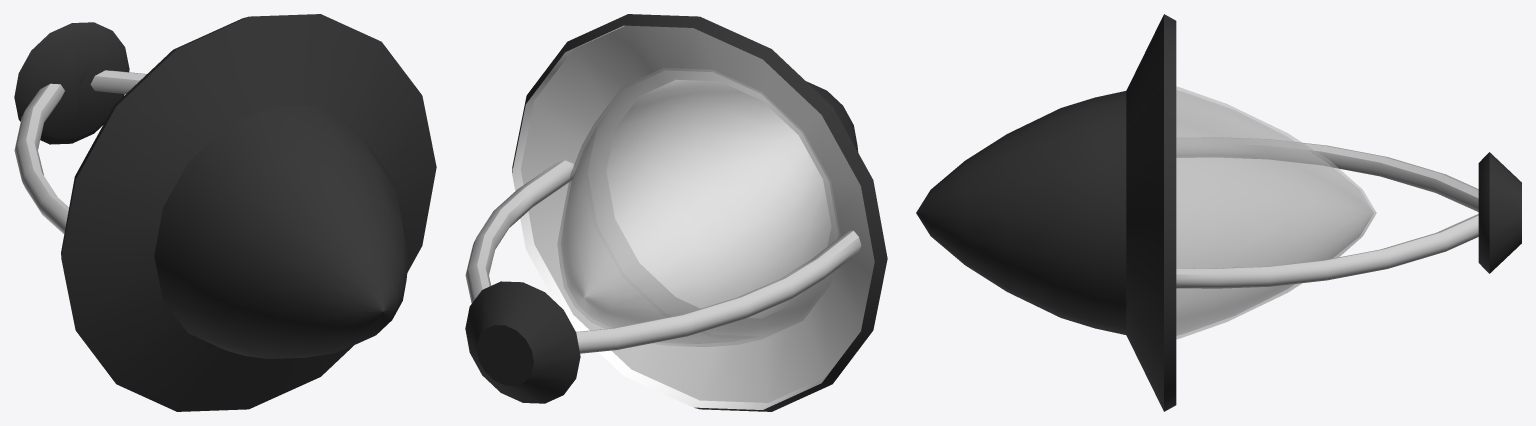
File: Lucas_VII.obj
The picture shows the model from 3 angles, left to right: view 1: azimuth 30°, elevation 25°; view 2: azimuth 150°, elevation 25°; view 3: azimuth 270°, elevation 25°; orthographic projection. The views are drawn at different scales.
Parts seen in each view (by area): view 1: Lucas_VII_BezierCurve.009; view 2: Lucas_VII_BezierCurve.009; view 3: Lucas_VII_BezierCurve.009.
Boxes of the visible parts, x1,y1,x2,y2 form: Lucas_VII_BezierCurve.009: [14, 14, 436, 411]; Lucas_VII_BezierCurve.009: [465, 14, 887, 411]; Lucas_VII_BezierCurve.009: [916, 14, 1521, 411].
Bounding box in the file's own units: 0.5534 × 0.5534 × 0.8417.
